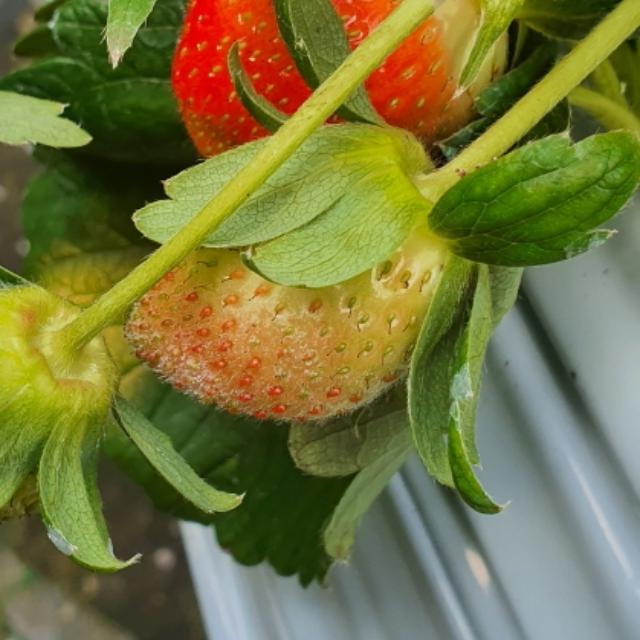Powdery Mildew Fruit: (117, 249, 371, 425)
